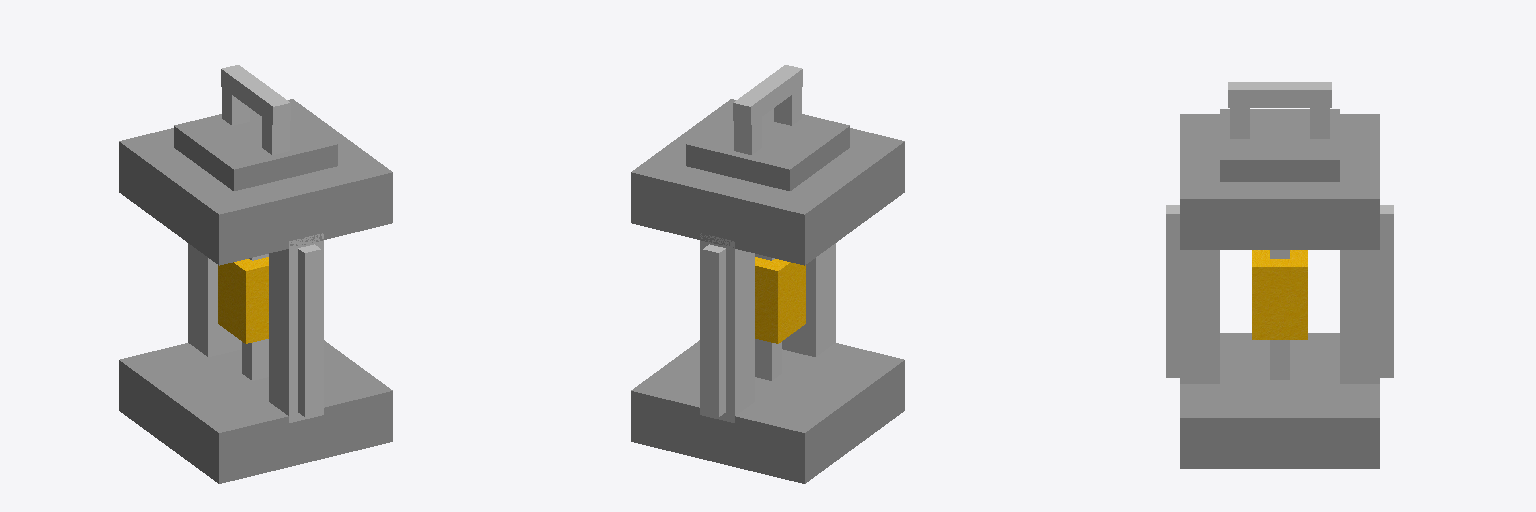
3 renders of one model, left to right at view 1: azimuth 30°, elevation 25°; view 2: azimuth 150°, elevation 25°; view 3: azimuth 270°, elevation 25°, orthographic.
Bounding box in the file's own units: 1.25 × 2.34 × 1.42.
Materials: 5 (1 with a texture image).